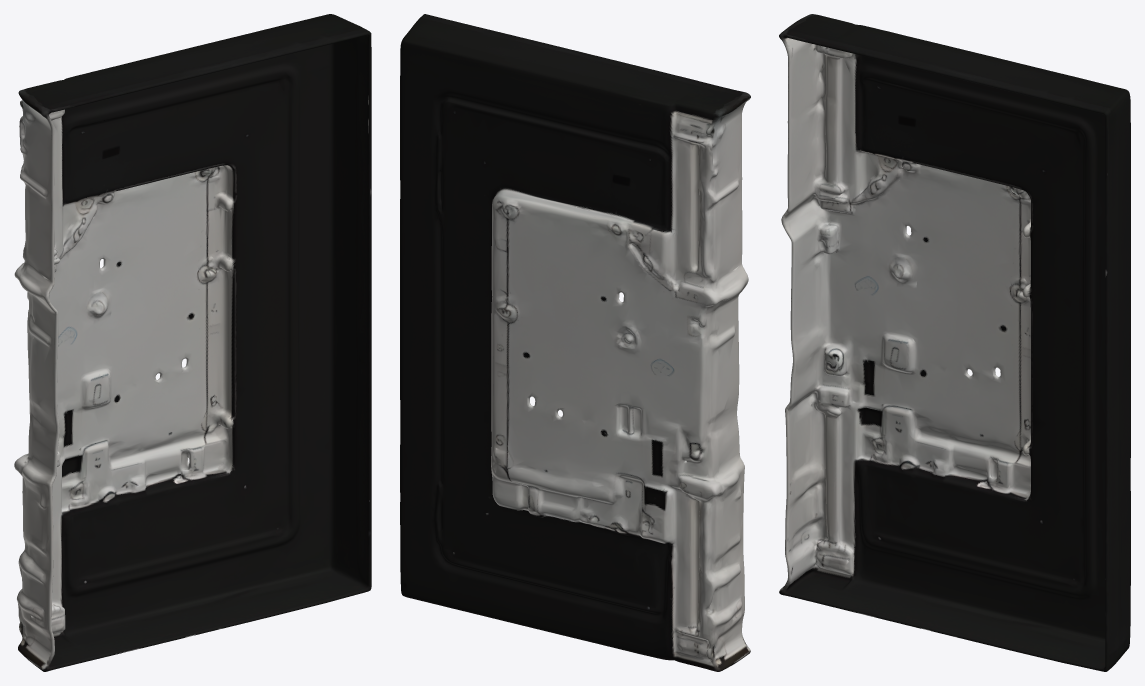
File: backboard.glb
3 views of the same model, side by side, from view 1: azimuth 30°, elevation 25°; view 2: azimuth 150°, elevation 25°; view 3: azimuth 330°, elevation 25° (orthographic).
Visible parts, largest first — view 1: texture_pbr_v128.001; view 2: texture_pbr_v128.001; view 3: texture_pbr_v128.001.
Boxes of the visible parts, bbox=[...] form: texture_pbr_v128.001: bbox=[14, 14, 371, 671]; texture_pbr_v128.001: bbox=[400, 14, 750, 671]; texture_pbr_v128.001: bbox=[779, 14, 1130, 671].
Size of the model in its own units: 0.627 by 1.02 by 0.1418.
Materials: 1 (1 with a texture image).
